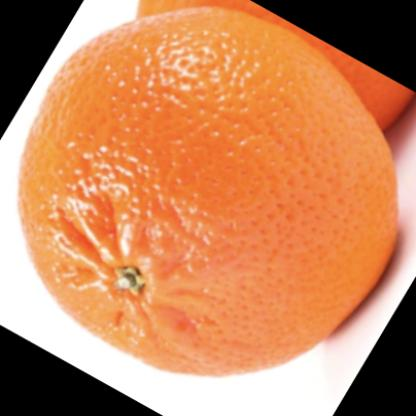fresh: (17, 9, 401, 379)
